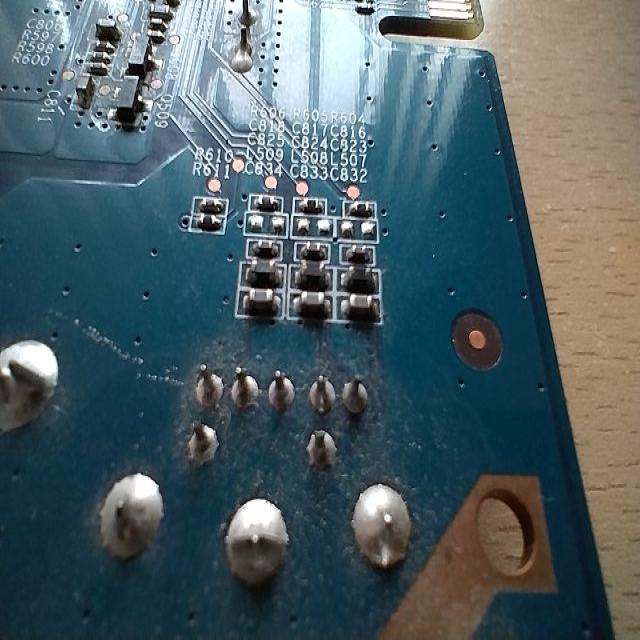capacitor: (335, 288, 401, 329), (288, 283, 334, 333), (244, 280, 286, 324)
resistor: (192, 188, 232, 218), (290, 193, 332, 220), (187, 210, 227, 238), (248, 188, 287, 214), (341, 198, 382, 220)
